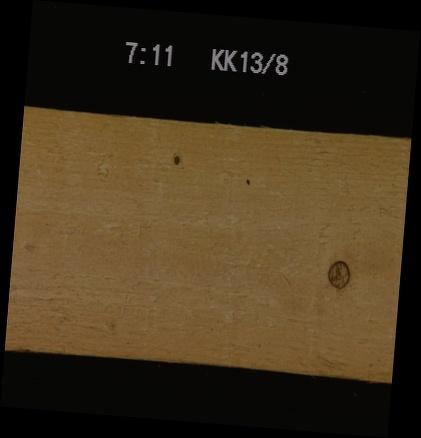dry_knot: (324, 258, 350, 290)
small_knot: (169, 151, 181, 168)
